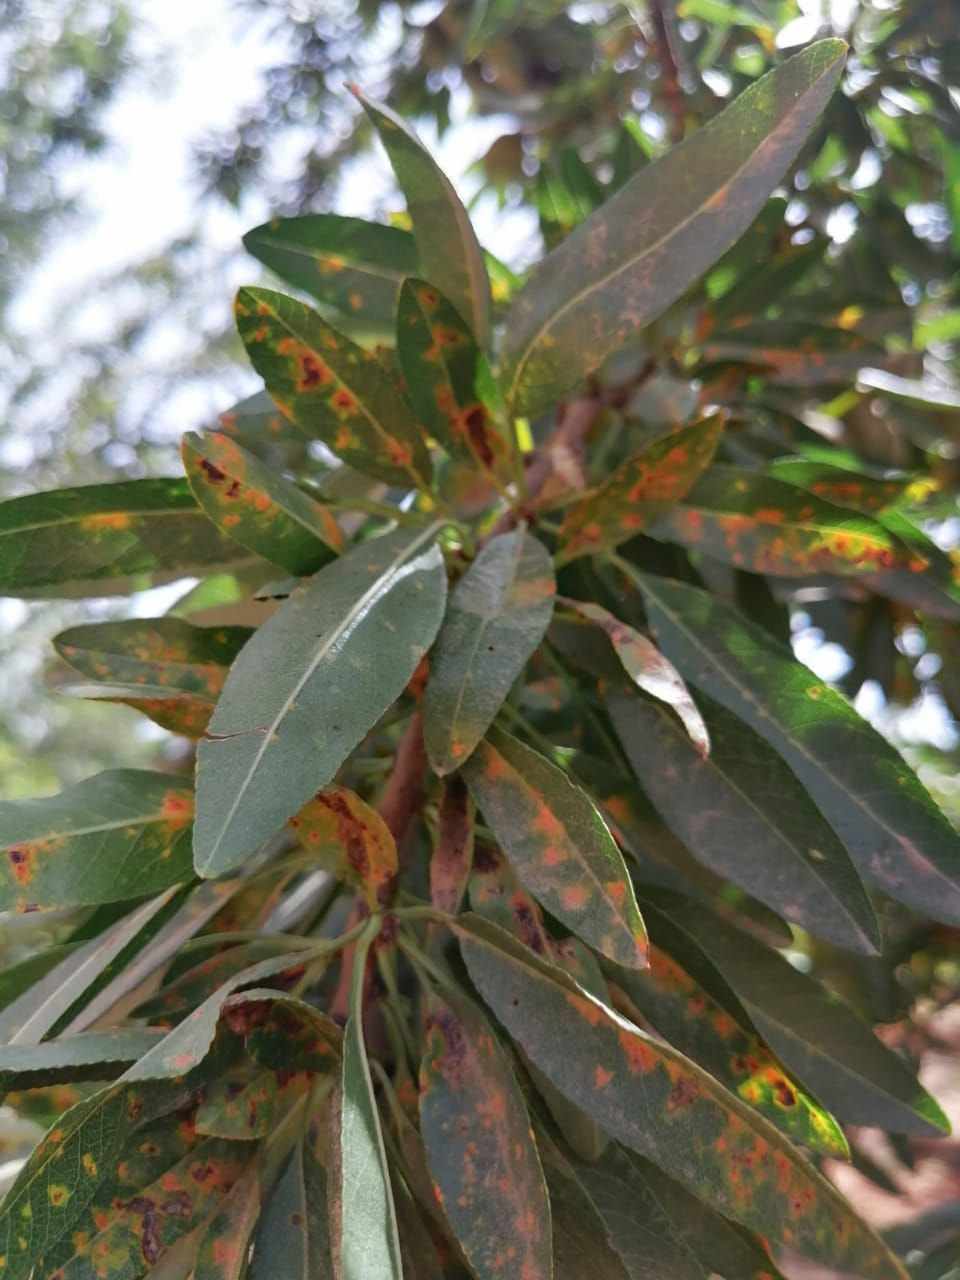polystigma: (444, 908, 919, 1280), (1, 927, 374, 1280), (455, 725, 656, 969), (225, 279, 441, 495), (415, 961, 559, 1280), (1, 768, 202, 918), (556, 403, 729, 568), (395, 276, 518, 491), (178, 427, 349, 568)
